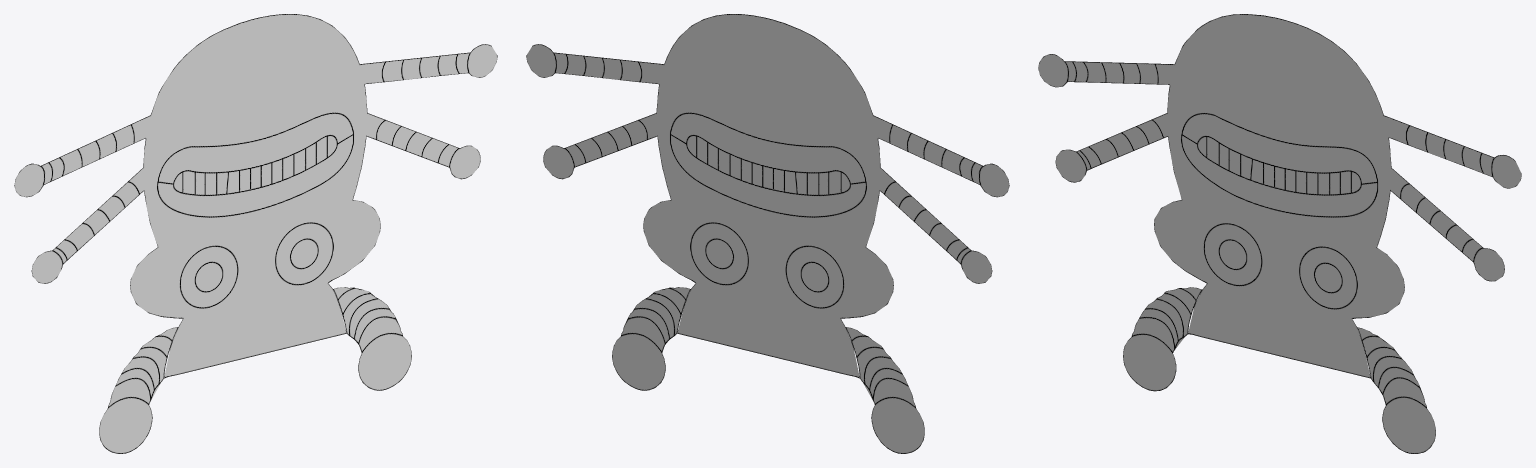
Rendered from 9_kaena-01_fix.fbx.
3 renders of one model, left to right at view 1: azimuth 30°, elevation 25°; view 2: azimuth 150°, elevation 25°; view 3: azimuth 330°, elevation 25°, orthographic.
Visible parts, largest first — view 1: planarTrimmedSurface1ewee; view 2: planarTrimmedSurface1ewee; view 3: planarTrimmedSurface1ewee.
Boxes of the visible parts, <box> form: planarTrimmedSurface1ewee: <box>14,14,497,453</box>; planarTrimmedSurface1ewee: <box>526,14,1009,453</box>; planarTrimmedSurface1ewee: <box>1038,14,1521,453</box>.
Bounding box in the file's own units: 14.52 × 11.59 × 1.89e-06.
1 material, 1 textured.
